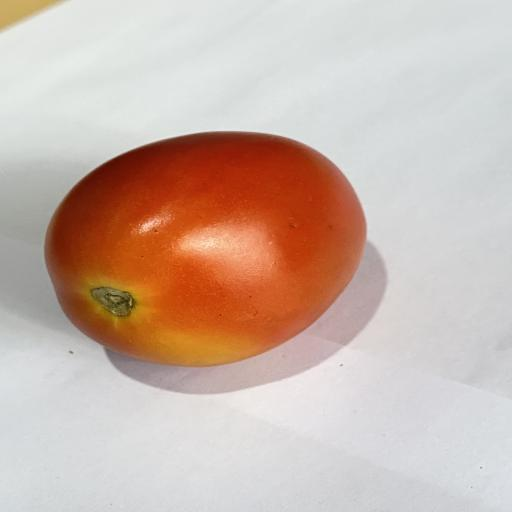ripe: (45, 132, 366, 366)
